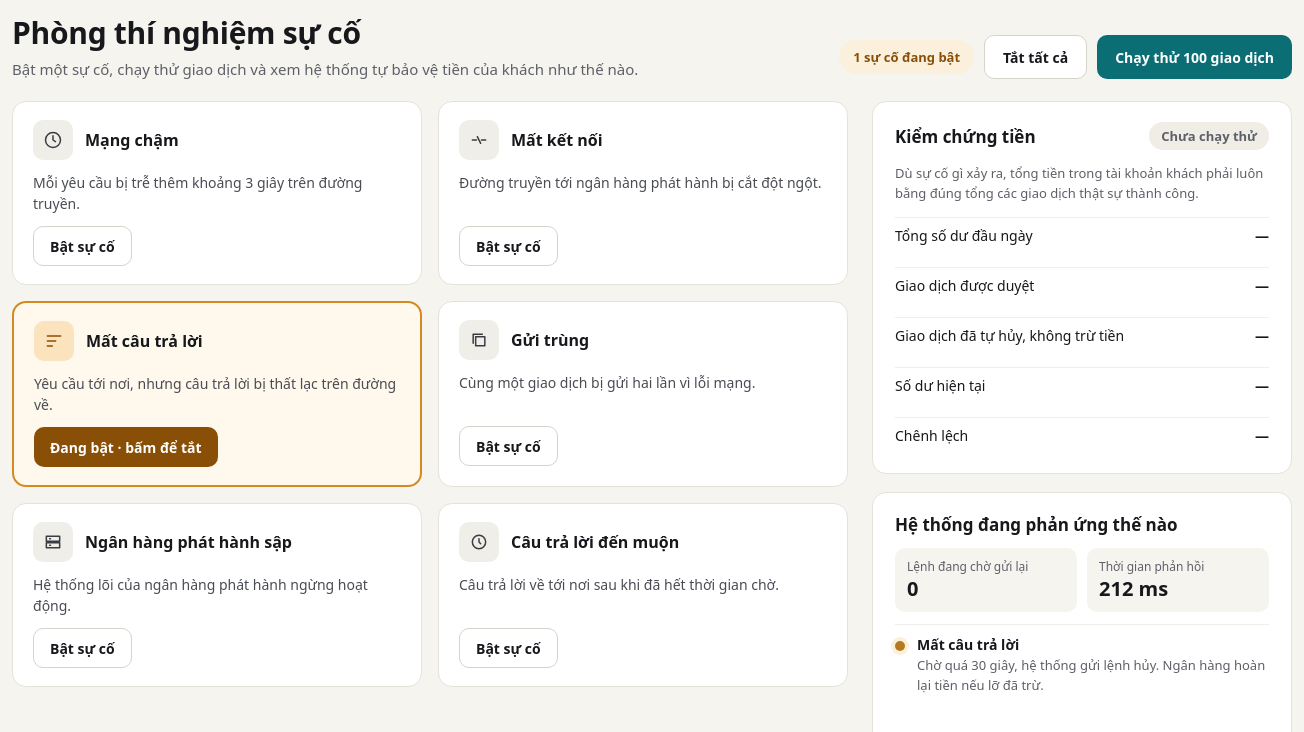
Scenario: ChaosLabScreen › shows an alert when a toggle fails __MCN_405_AC1
Check: the text "1 sự cố đang bật" is shown, box [839,40,974,74]
Click the button "Bật sự cố" below "Mạng chậm". click: x=82, y=246
box: [33,226,132,266]
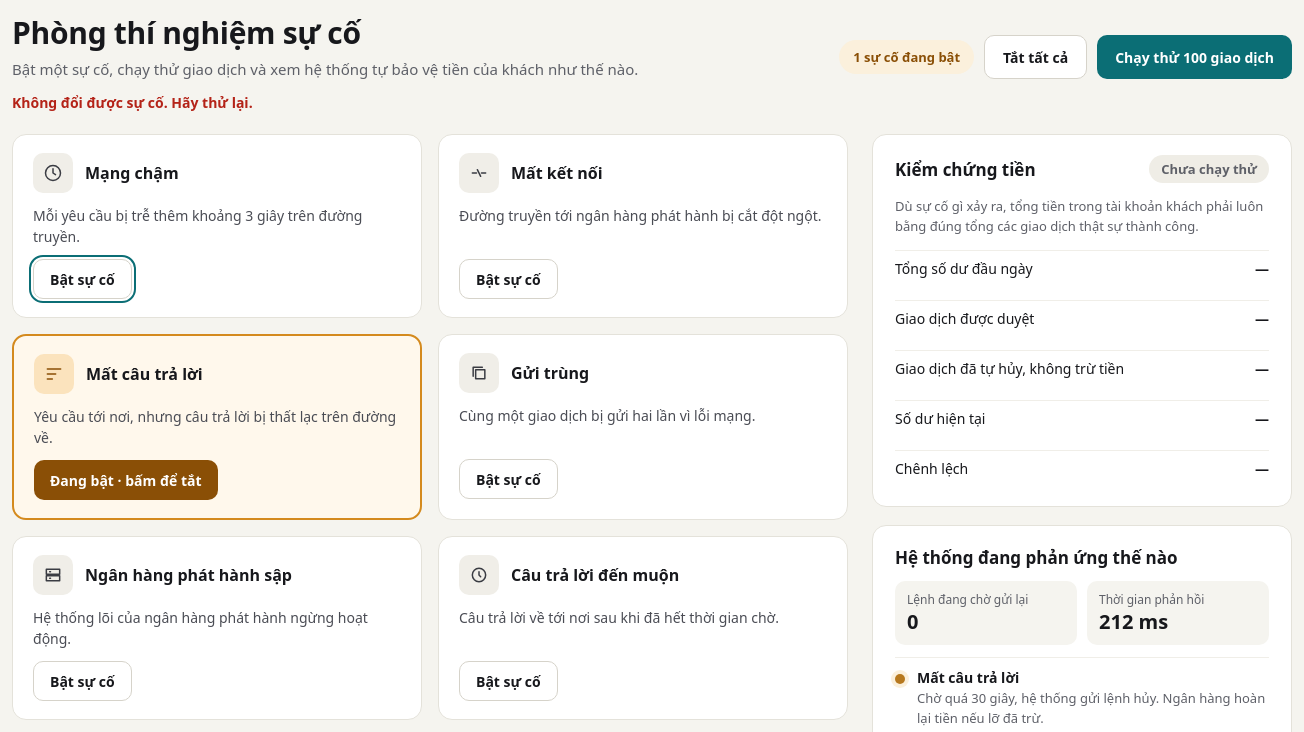
Check: the message "Không đổi được sự cố. Hãy thử lại." is shown, box [12,93,253,112]
